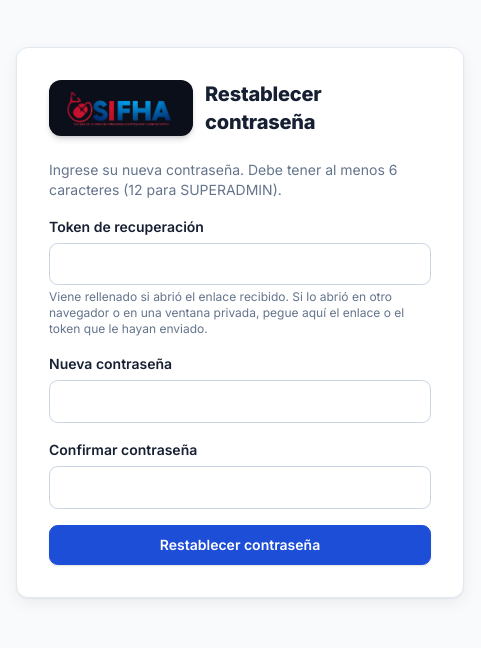
Test: ResetPassword › exige un token antes de enviar nada
Type "NuevaClave123!" into the password field labelled "Nueva contraseña".
click(240, 401); type("NuevaClave123!")  # box x1=49 y1=380 x2=431 y2=422
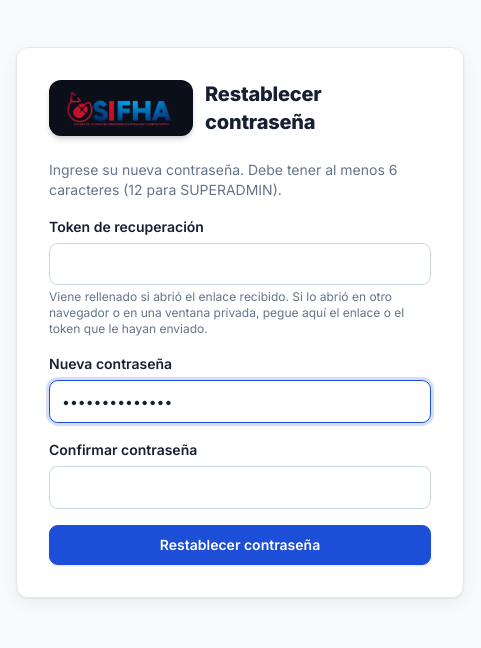
Type "NuevaClave123!" into the password field labelled "Confirmar contraseña".
click(240, 487); type("NuevaClave123!")  # box x1=49 y1=466 x2=431 y2=508
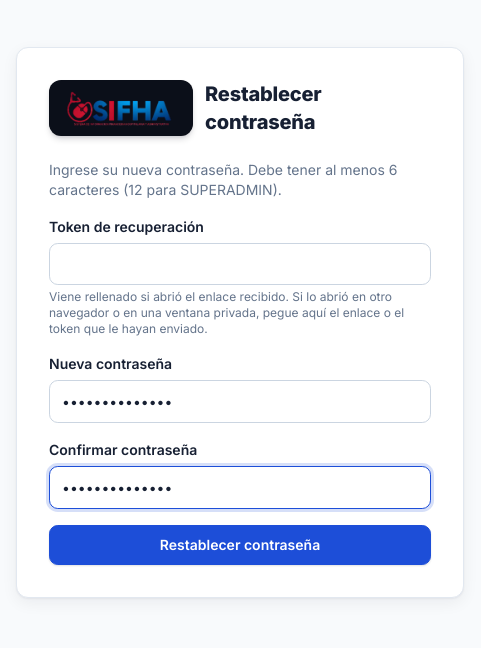
Click the button "Restablecer contraseña".
click(240, 544)  # box x1=49 y1=524 x2=431 y2=564
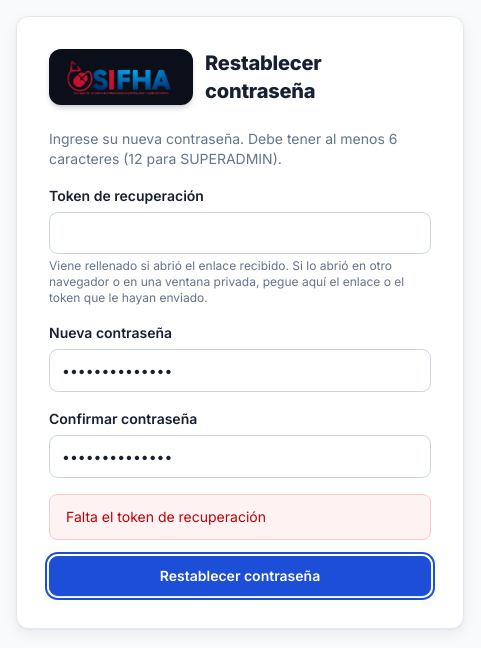
Result: the text "Falta el token de recuperación" is shown at x1=49 y1=494 x2=431 y2=540
